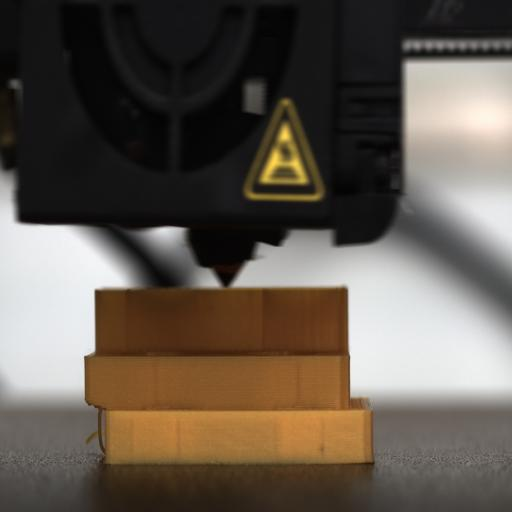layer_shift: (82, 393, 372, 420)
